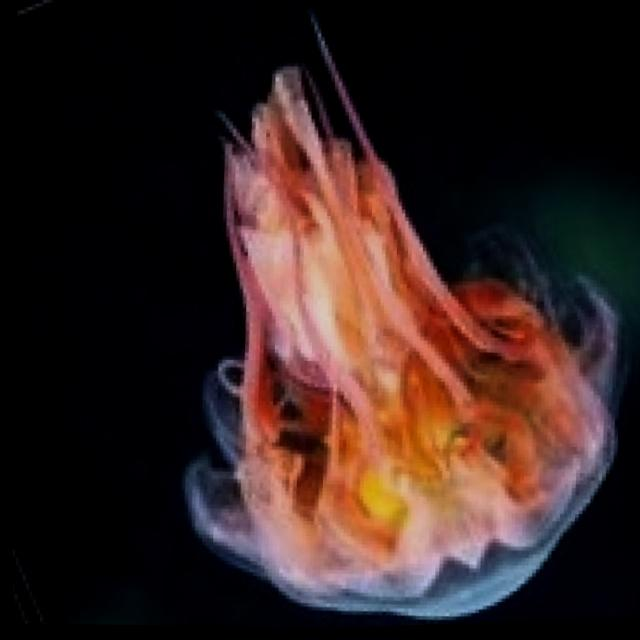Jellyfish: (158, 0, 640, 635)
